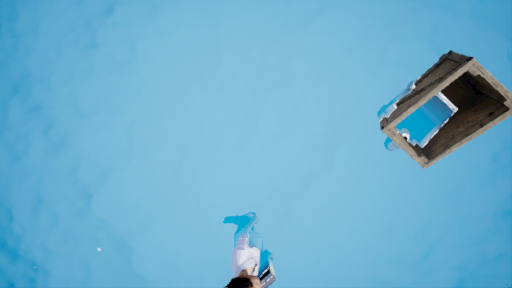person: (220, 213, 279, 288)
